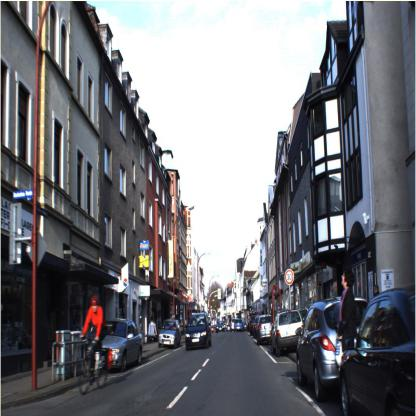prohibitory: (284, 263, 296, 290)
